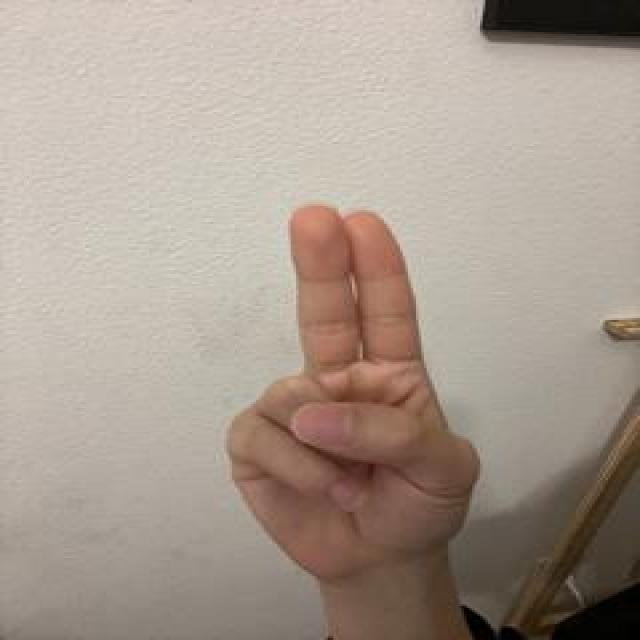U: (220, 196, 489, 584)
